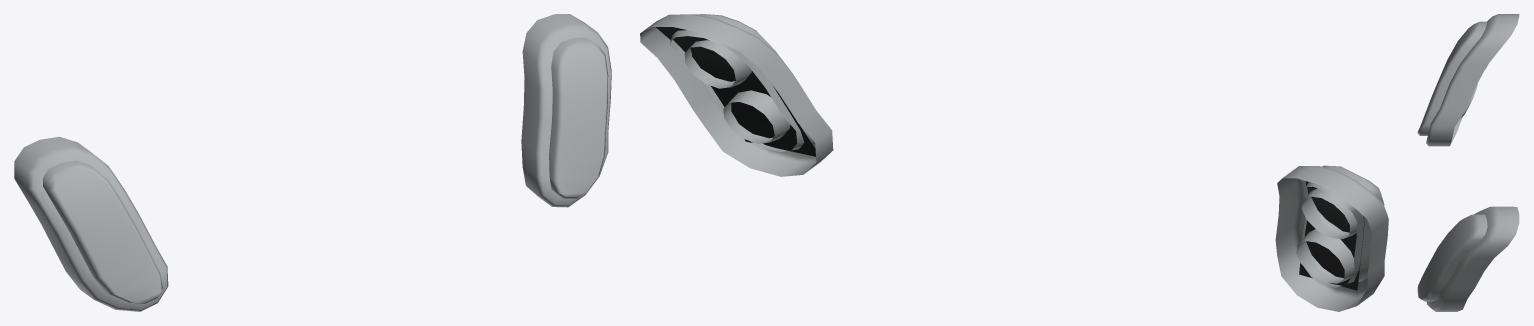
Rendered from Car_08_Headlight_Cool.fbx.
The picture shows the model from 3 angles, left to right: view 1: azimuth 30°, elevation 25°; view 2: azimuth 150°, elevation 25°; view 3: azimuth 270°, elevation 25°; orthographic projection. The views are drawn at different scales.
Parts seen in each view (by area): view 1: Car_08_Headlight_Cool; view 2: Car_08_Headlight_Cool; view 3: Car_08_Headlight_Cool.
Part boxes in pixels (x1,y1,x2,y2): Car_08_Headlight_Cool: (14,14,611,311); Car_08_Headlight_Cool: (640,14,1388,311); Car_08_Headlight_Cool: (1417,14,1519,311).
Size of the model in its own units: 183 by 35.53 by 42.41.
